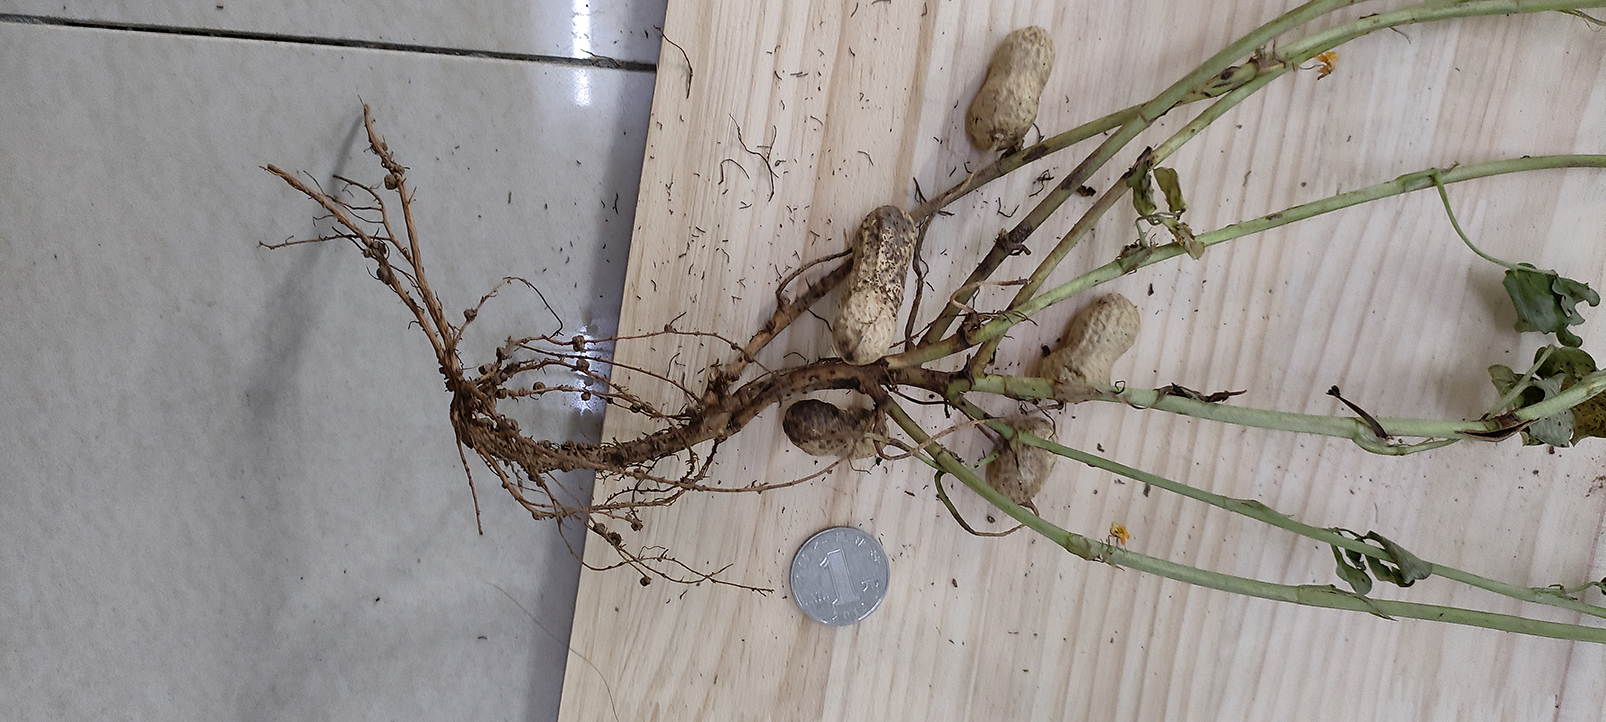h: (833, 202, 916, 365), (967, 25, 1056, 153), (1037, 293, 1141, 383)
l: (781, 400, 889, 459), (985, 418, 1055, 504)
